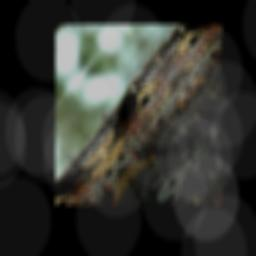Woodpecker: (91, 75, 159, 153)
